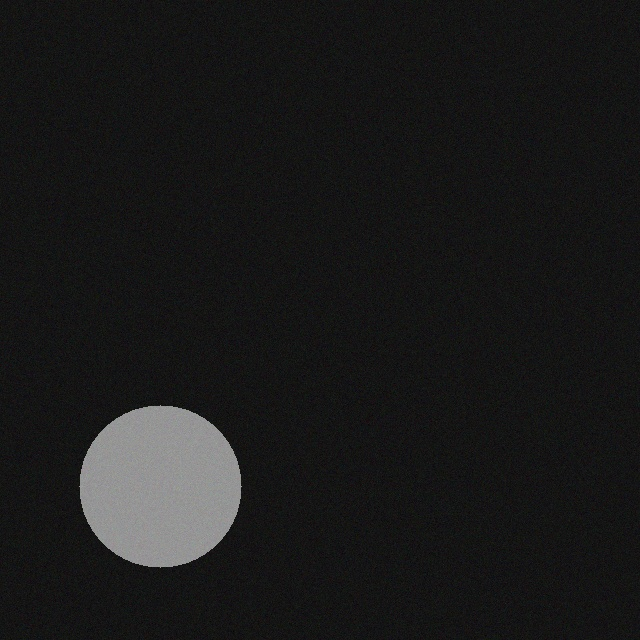circle: (67, 418, 229, 580)
